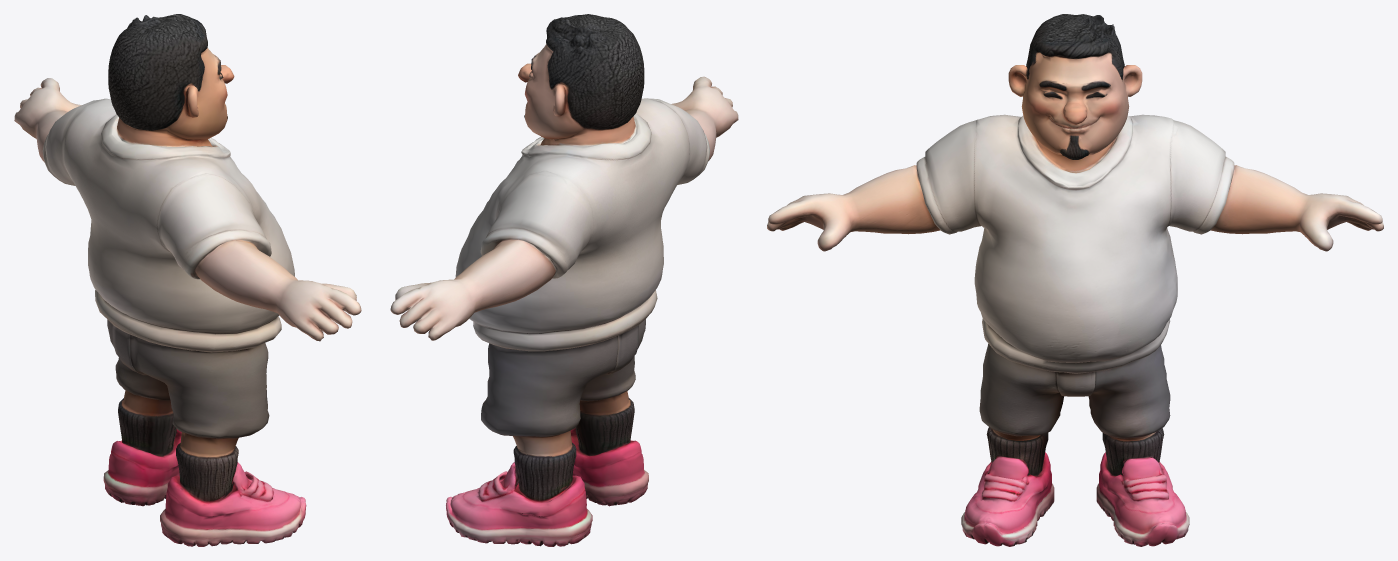
The picture shows the model from 3 angles, left to right: view 1: azimuth 30°, elevation 25°; view 2: azimuth 150°, elevation 25°; view 3: azimuth 270°, elevation 25°; orthographic projection. The views are drawn at different scales.
Parts seen in each view (by area): view 1: tripo_node_98a39c8f; view 2: tripo_node_98a39c8f; view 3: tripo_node_98a39c8f.
Part boxes in pixels (x1=…): tripo_node_98a39c8f: x1=14, y1=14, x2=361, y2=546; tripo_node_98a39c8f: x1=390, y1=14, x2=738, y2=546; tripo_node_98a39c8f: x1=767, y1=14, x2=1383, y2=546.
Size of the model in its own units: 33.07 by 86.69 by 100.
1 material, 1 textured.
